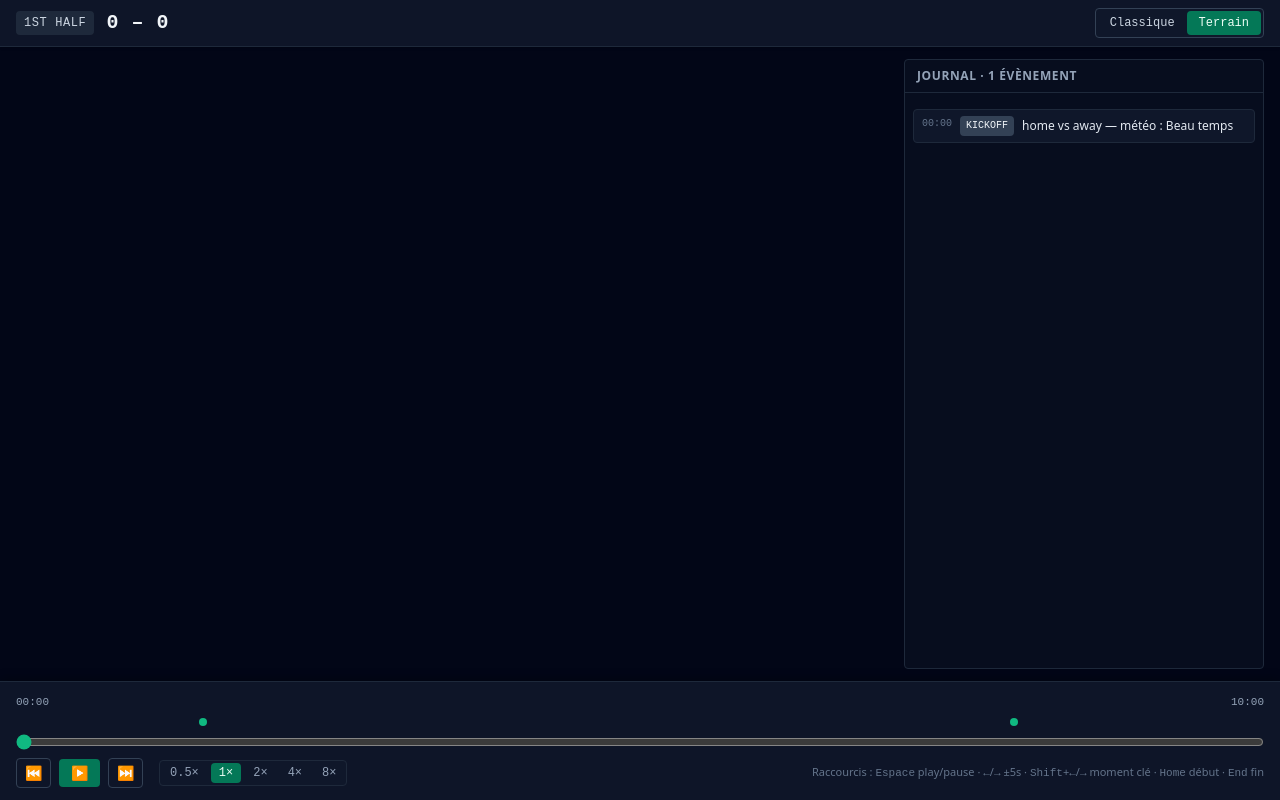
<MatchReplayPlayer> — sprint 1.G.2 › click sur un marker TD seek vers son displayAtMs
This screenshot has width=1280, height=800.
Expected: the text with test id "replay-score" reads "0 – 0", [106,9,169,37]
Click the 1st list item with test id "scrub-marker-td".
click(203, 722)  # box [199,718,207,726]
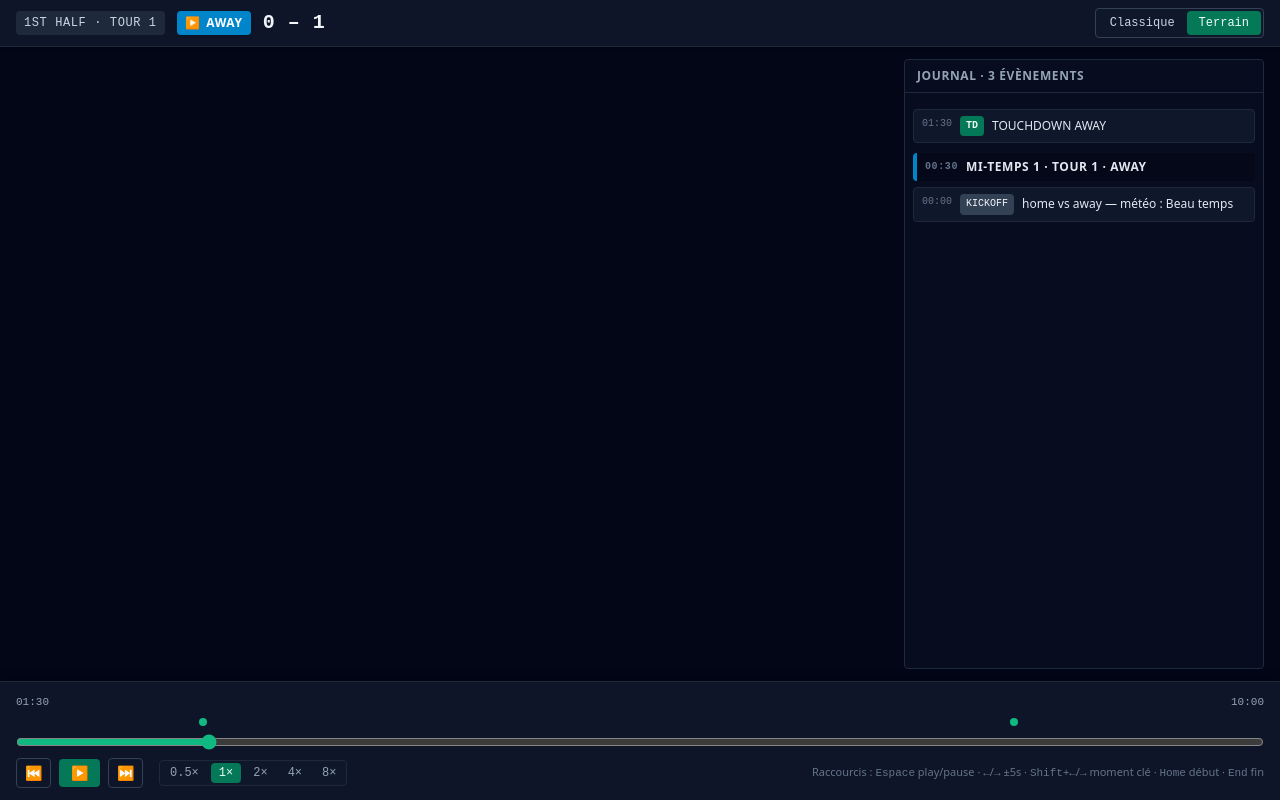
Result: the text with test id "replay-score" reads "0 – 1" at [263,9,325,37]
